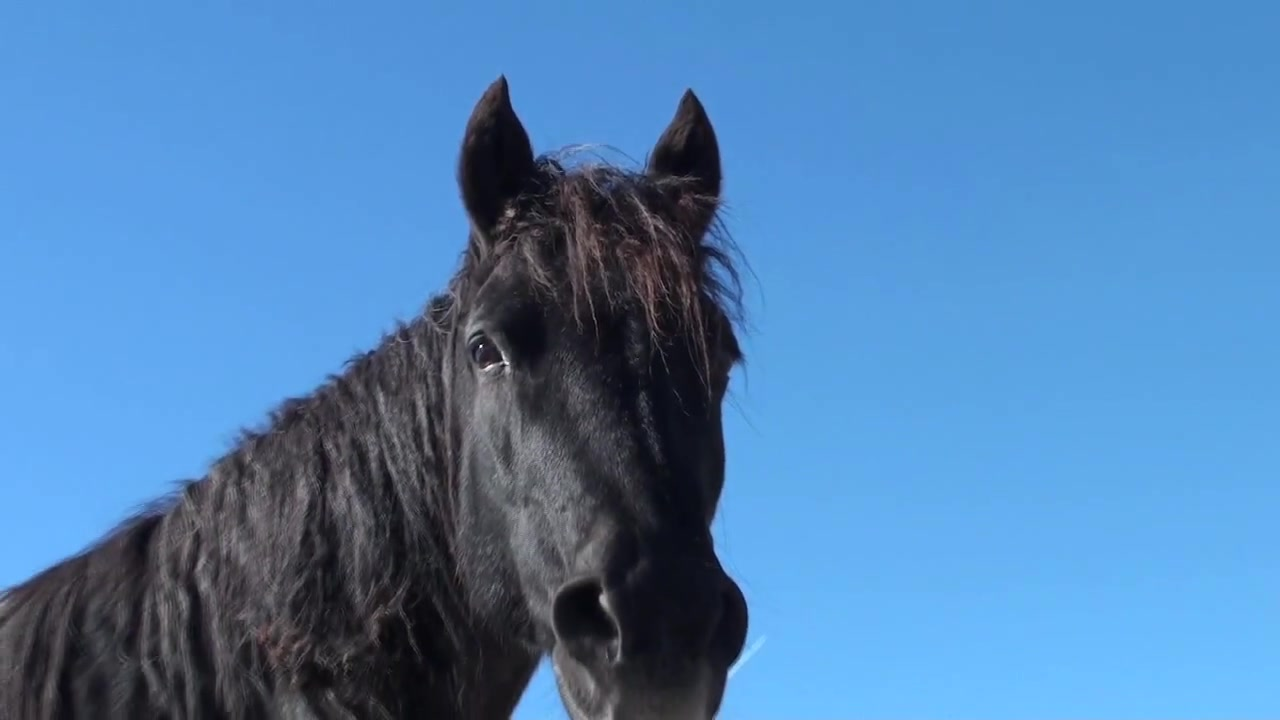horse: (1, 71, 768, 720)
